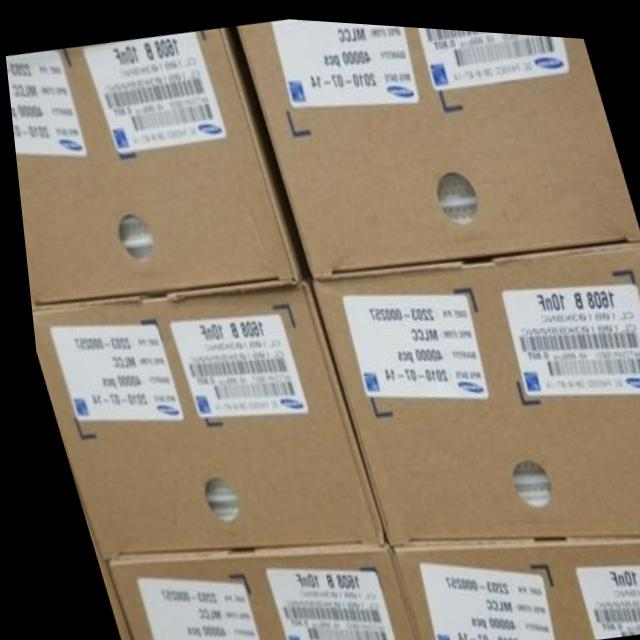box: (236, 15, 638, 275), (307, 232, 640, 542), (26, 277, 376, 561), (5, 24, 296, 310), (94, 546, 406, 640), (380, 531, 640, 640)
